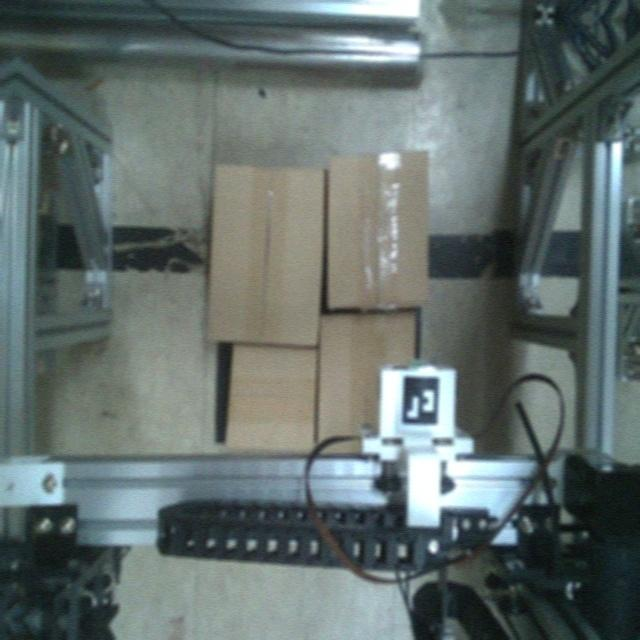box: (199, 156, 333, 351), (316, 141, 441, 319), (222, 339, 324, 456)
